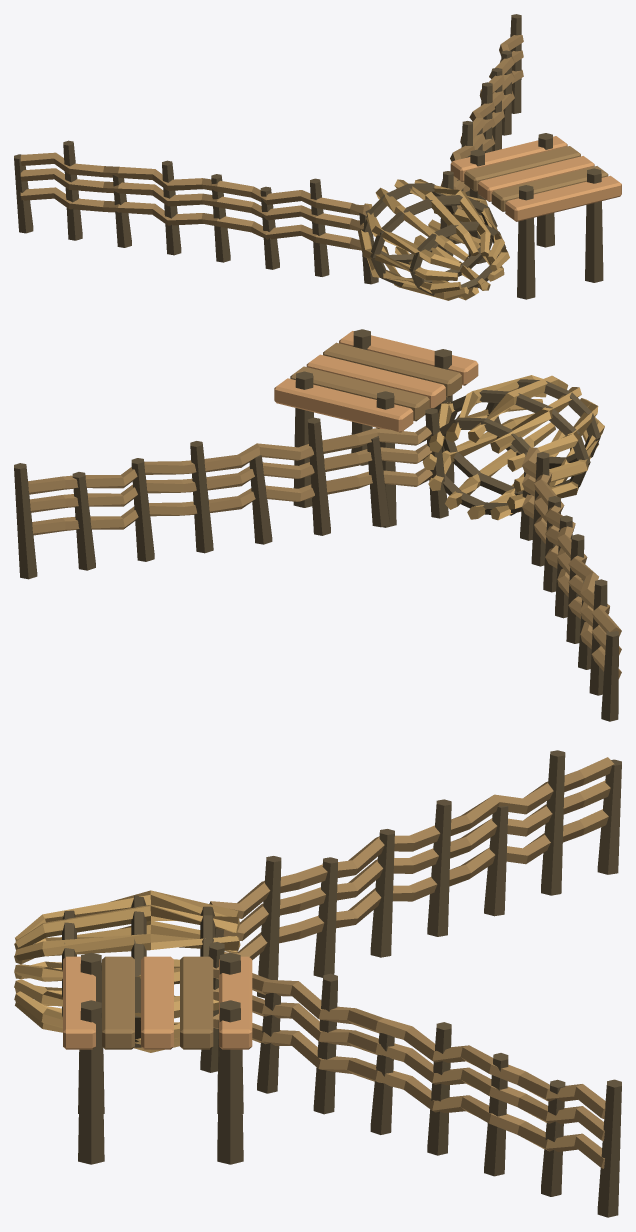
File: fish-traps.glb
The picture shows the model from 3 angles, top to bottom: view 1: azimuth 30°, elevation 25°; view 2: azimuth 150°, elevation 25°; view 3: azimuth 270°, elevation 25°; orthographic projection. The views are drawn at different scales.
Parts seen in each view (by area): view 1: fish-traps; view 2: fish-traps; view 3: fish-traps.
Boxes of the visible parts, box(x1,y1,x2,y2) form: fish-traps: box(14, 14, 621, 300); fish-traps: box(14, 329, 621, 721); fish-traps: box(14, 750, 621, 1217).
Bounding box in the file's own units: 1.27 × 0.255 × 0.918.
